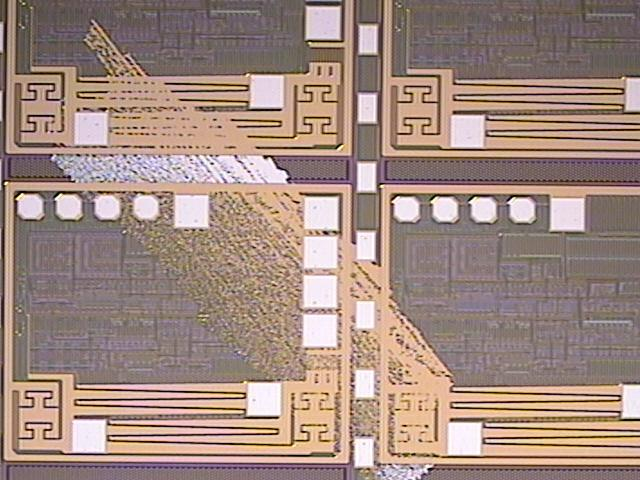BLOCK ETCH: (46, 14, 464, 480)
